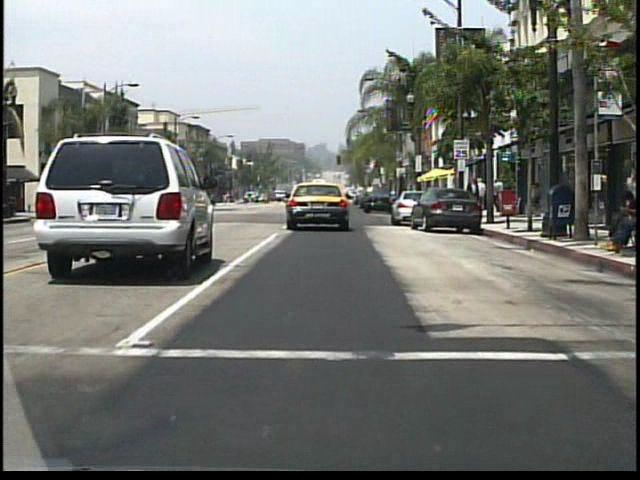person: (576, 195, 629, 252), (465, 176, 482, 220), (476, 178, 489, 216), (498, 181, 510, 216), (487, 183, 499, 216)
